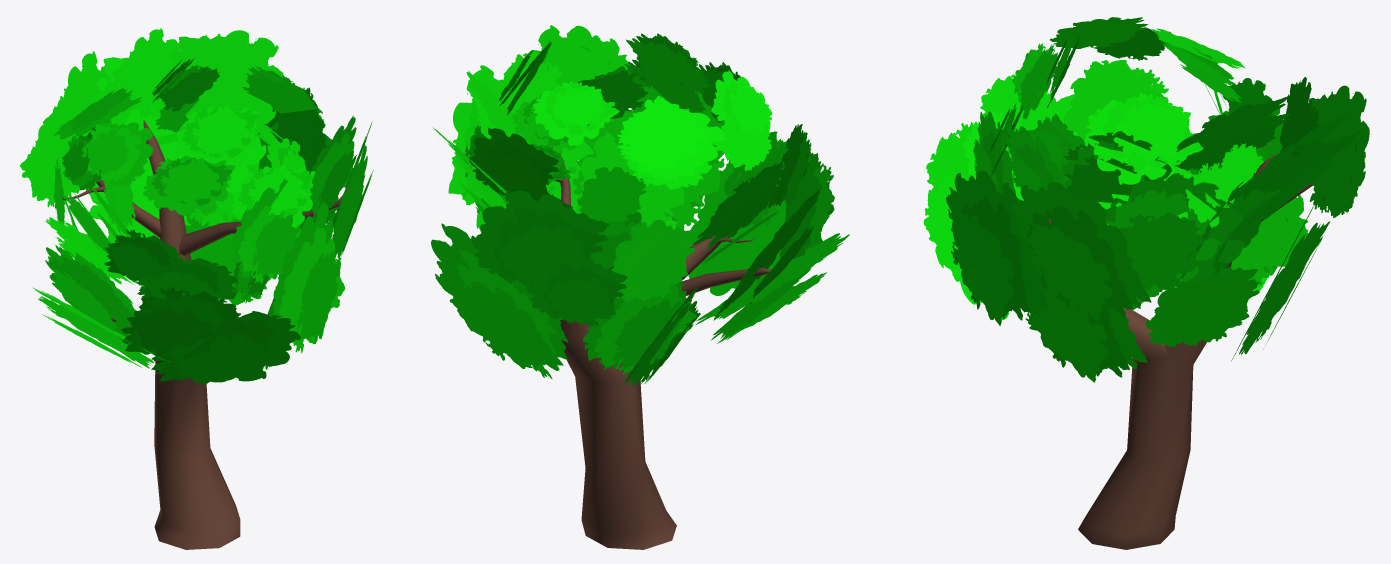
Rendered from Tree1_Leaf_Type1.fbx.
3 views of the same model, side by side, from view 1: azimuth 30°, elevation 25°; view 2: azimuth 150°, elevation 25°; view 3: azimuth 270°, elevation 25° (orthographic). The views are drawn at different scales.
Parts seen in each view (by area): view 1: LeafClump34 (×29), LeafClump35 (×13), LeafClump36 (×18), Tree1, branch5, branch3; view 2: LeafClump34 (×30), LeafClump35 (×14), LeafClump36 (×15), Tree1, branch1; view 3: LeafClump34 (×25), LeafClump35 (×12), LeafClump36 (×15), Tree1.
Part boxes in pixels (x1,y1,x2,y2): LeafClump34 (×29): (25, 28, 356, 382); LeafClump35 (×13): (49, 104, 356, 384); LeafClump36 (×18): (38, 86, 367, 381); Tree1: (143, 120, 240, 549); branch5: (179, 186, 350, 255); branch3: (95, 180, 161, 238); LeafClump34 (×30): (431, 25, 849, 369); LeafClump35 (×14): (452, 86, 826, 370); LeafClump36 (×15): (454, 82, 834, 386); Tree1: (560, 234, 728, 549); branch1: (679, 267, 771, 295); LeafClump34 (×25): (923, 20, 1369, 368); LeafClump35 (×12): (951, 102, 1337, 382); LeafClump36 (×15): (957, 43, 1361, 377); Tree1: (1078, 153, 1278, 549).
Size of the model in its own units: 14.77 by 17.21 by 14.81.
